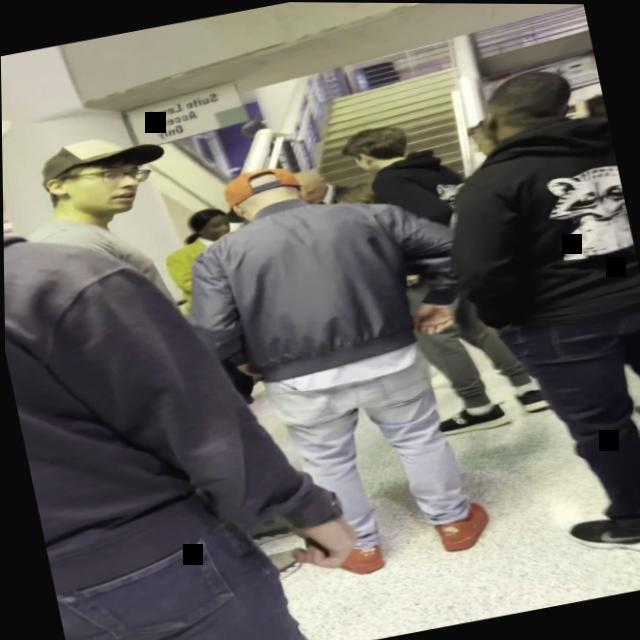NO-Mask: (75, 158, 147, 220), (204, 215, 230, 240)
